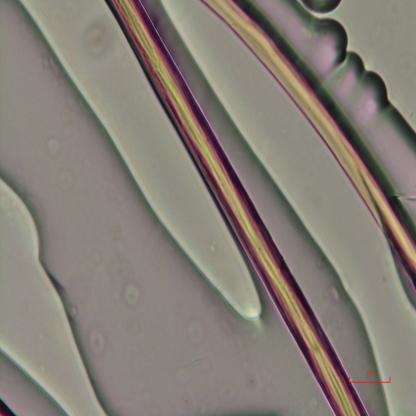Air bubble: (17, 1, 262, 325), (0, 174, 111, 415), (305, 0, 416, 131)
Background material: (176, 300, 210, 350), (81, 318, 111, 364), (84, 14, 112, 57), (116, 276, 143, 312), (37, 128, 65, 161), (240, 370, 258, 399)
Microfibre: (109, 0, 368, 415), (199, 0, 416, 276)
